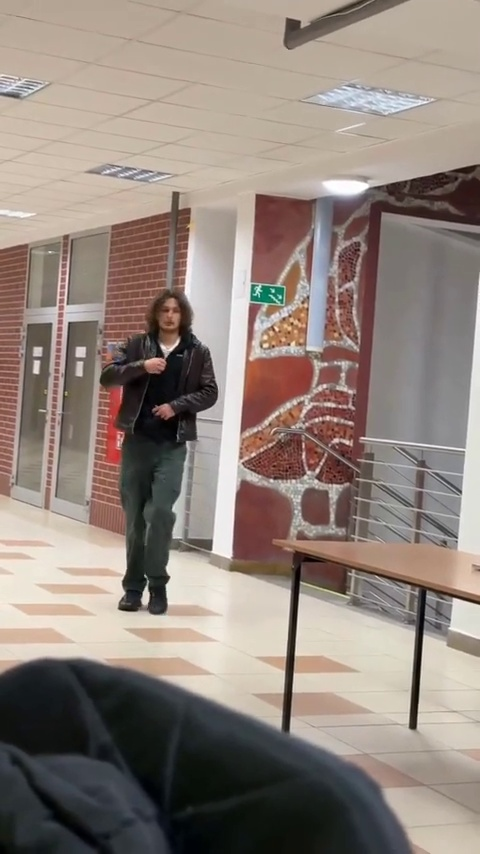no vest: (107, 288, 220, 611)
